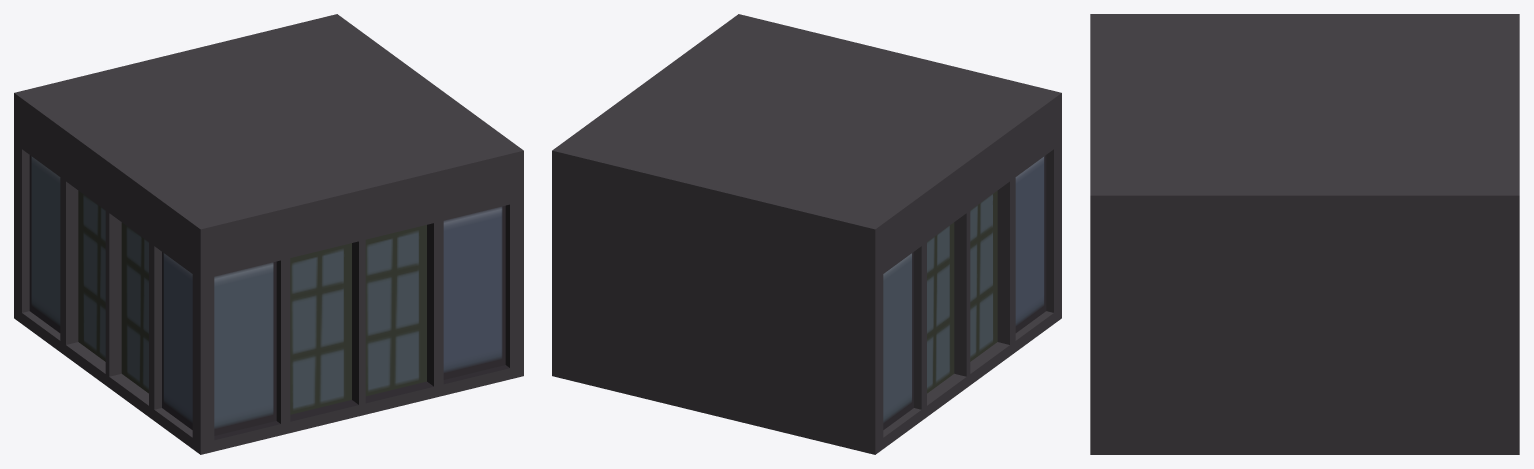
Rendered from Bock_G2.fbx.
The picture shows the model from 3 angles, left to right: view 1: azimuth 30°, elevation 25°; view 2: azimuth 150°, elevation 25°; view 3: azimuth 270°, elevation 25°; orthographic projection. The views are drawn at different scales.
Parts seen in each view (by area): view 1: Bock_G2; view 2: Bock_G2; view 3: Bock_G2.
Boxes of the visible parts, <box> form: Bock_G2: <box>14,14,523,454</box>; Bock_G2: <box>552,14,1061,454</box>; Bock_G2: <box>1090,14,1519,454</box>.
Bounding box in the file's own units: 600 × 400 × 600.
Materials: 1 (1 with a texture image).
